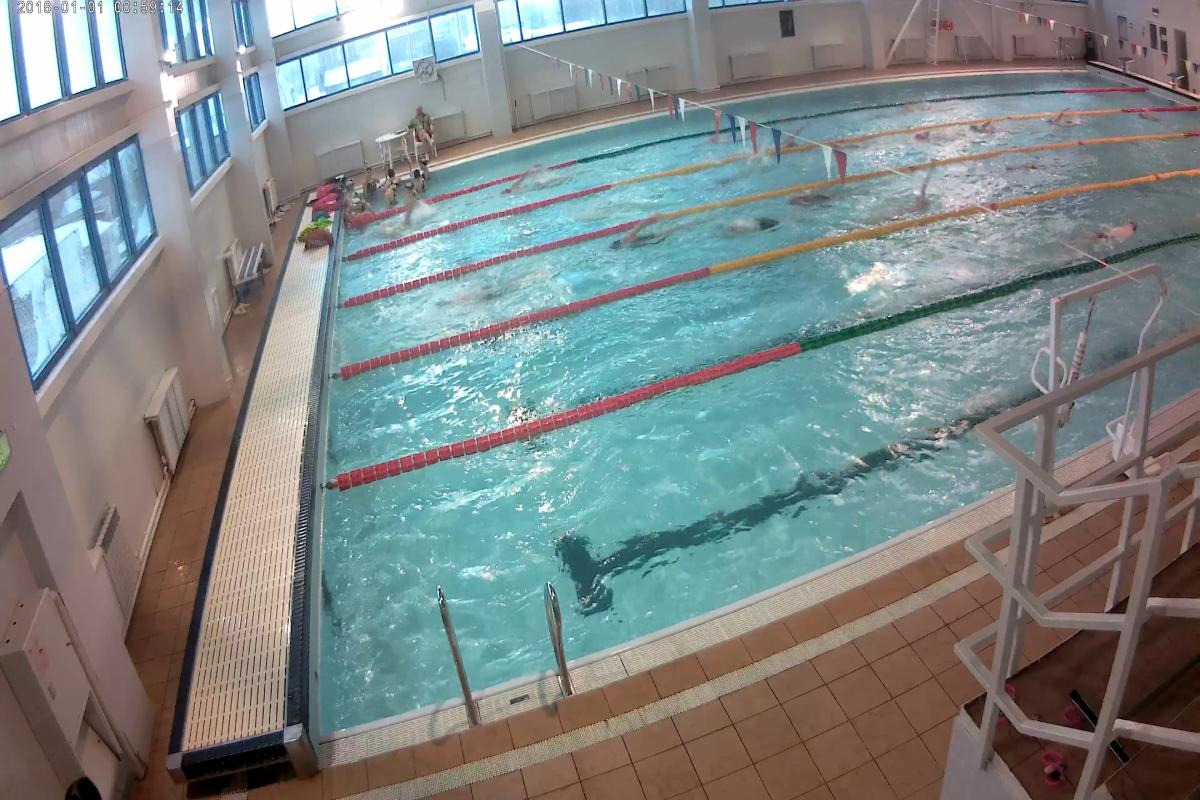swimmer: (604, 219, 684, 253), (1073, 220, 1146, 251), (897, 177, 935, 220), (711, 218, 786, 239), (792, 189, 854, 205)
